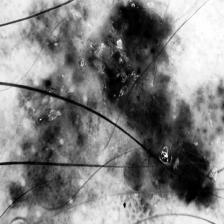Benign Marking or Mole: (13, 0, 224, 208)
